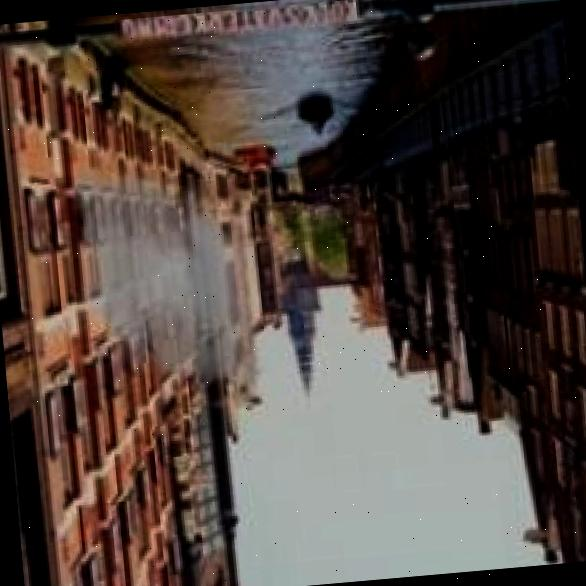smoke: (48, 142, 278, 415)
